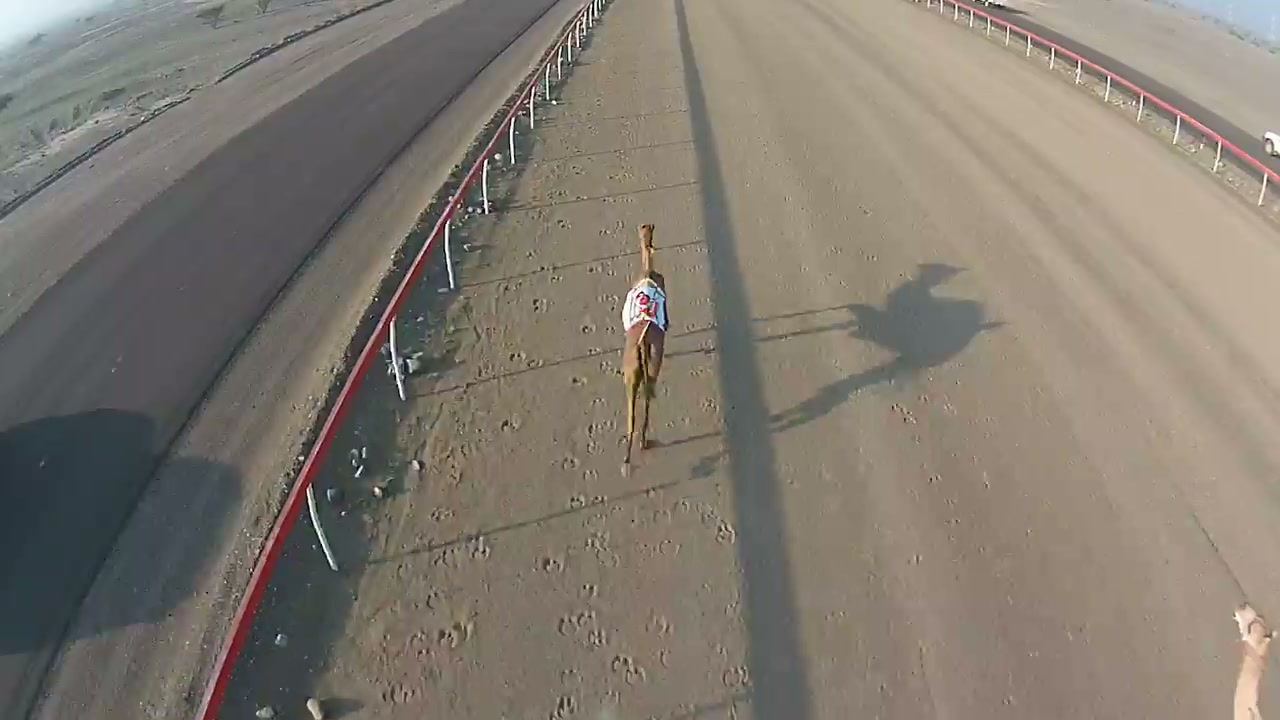animal_footprint: (409, 233, 571, 689), (540, 406, 749, 711)
